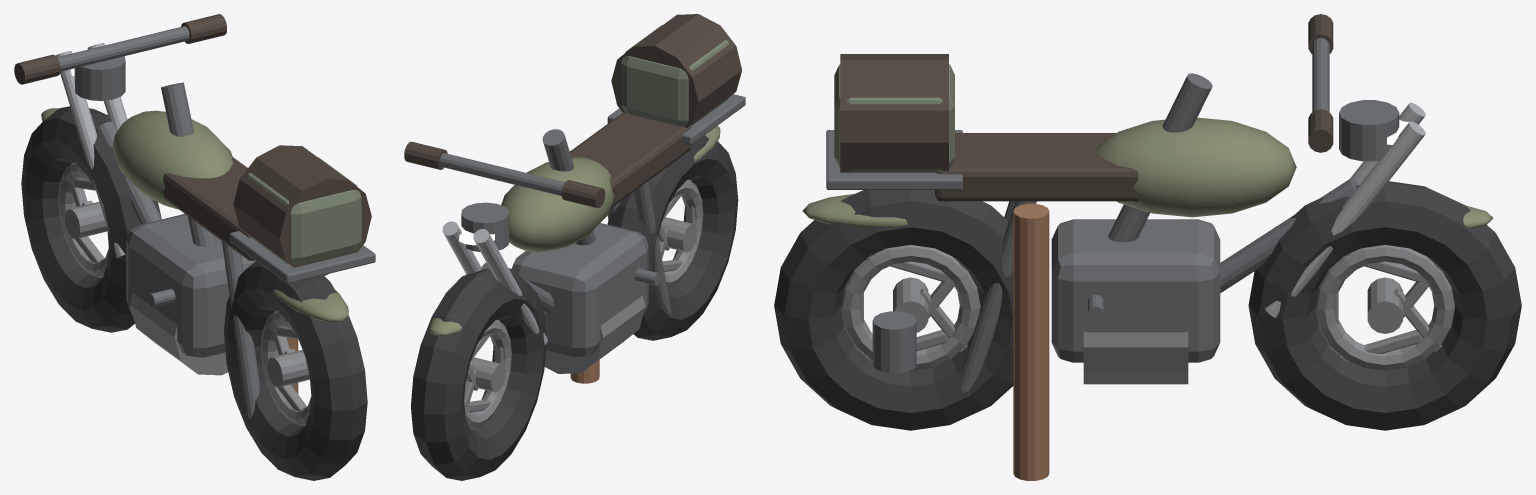
The model's file is motorcycle.glb.
The picture shows the model from 3 angles, left to right: view 1: azimuth 30°, elevation 25°; view 2: azimuth 150°, elevation 25°; view 3: azimuth 270°, elevation 25°; orthographic projection. The views are drawn at different scales.
Visible parts, largest first — view 1: WheelRearPivot_tire, WheelFrontPivot_tire, engine, cargo_strap, fuel_tank, cargo_box, seat, rack, engine_fin, swingarm, handlebar, headlight_can (+13 smaller); view 2: WheelFrontPivot_tire, WheelRearPivot_tire, engine, cargo_strap, fuel_tank, seat, cargo_box, engine_fin, handlebar, headlight_can, WheelFrontPivot_rim, fork (+12 smaller); view 3: WheelFrontPivot_tire, WheelRearPivot_tire, engine, fuel_tank, cargo_strap, seat, exhaust, WheelFrontPivot_rim, WheelRearPivot_rim, engine_fin, fork.001, headlight_can (+12 smaller).
Part boxes in pixels (<box>): WheelRearPivot_tire: <box>224,261,367,480</box>; WheelFrontPivot_tire: <box>21,106,161,332</box>; engine: <box>126,214,255,357</box>; cargo_strap: <box>233,145,371,275</box>; fuel_tank: <box>112,110,232,209</box>; cargo_box: <box>247,157,361,264</box>; seat: <box>163,157,254,260</box>; rack: <box>229,231,375,283</box>; engine_fin: <box>130,292,228,375</box>; swingarm: <box>222,241,259,418</box>; handlebar: <box>57,26,189,71</box>; headlight_can: <box>74,56,125,100</box>; WheelFrontPivot_tire: <box>411,268,546,480</box>; WheelRearPivot_tire: <box>607,135,738,340</box>; engine: <box>511,223,648,357</box>; cargo_strap: <box>611,14,741,128</box>; fuel_tank: <box>501,157,614,252</box>; seat: <box>570,112,692,207</box>; cargo_box: <box>621,25,728,126</box>; engine_fin: <box>544,295,645,373</box>; handlebar: <box>439,153,564,195</box>; headlight_can: <box>461,202,509,251</box>; WheelFrontPivot_rim: <box>464,320,511,428</box>; fork: <box>473,229,547,345</box>; WheelFrontPivot_tire: <box>1248,181,1521,430</box>; WheelRearPivot_tire: <box>774,190,1013,430</box>; engine: <box>1051,219,1220,362</box>; fuel_tank: <box>1095,117,1296,217</box>; cargo_strap: <box>840,54,948,172</box>; seat: <box>935,133,1138,201</box>; exhaust: <box>1013,203,1049,480</box>; WheelFrontPivot_rim: <box>1315,245,1454,370</box>; WheelRearPivot_rim: <box>841,245,980,370</box>; engine_fin: <box>1083,332,1188,384</box>; fork.001: <box>1265,121,1425,318</box>; headlight_can: <box>1339,100,1399,161</box>.
Size of the model in its own units: 0.68 by 1.08 by 1.86.
